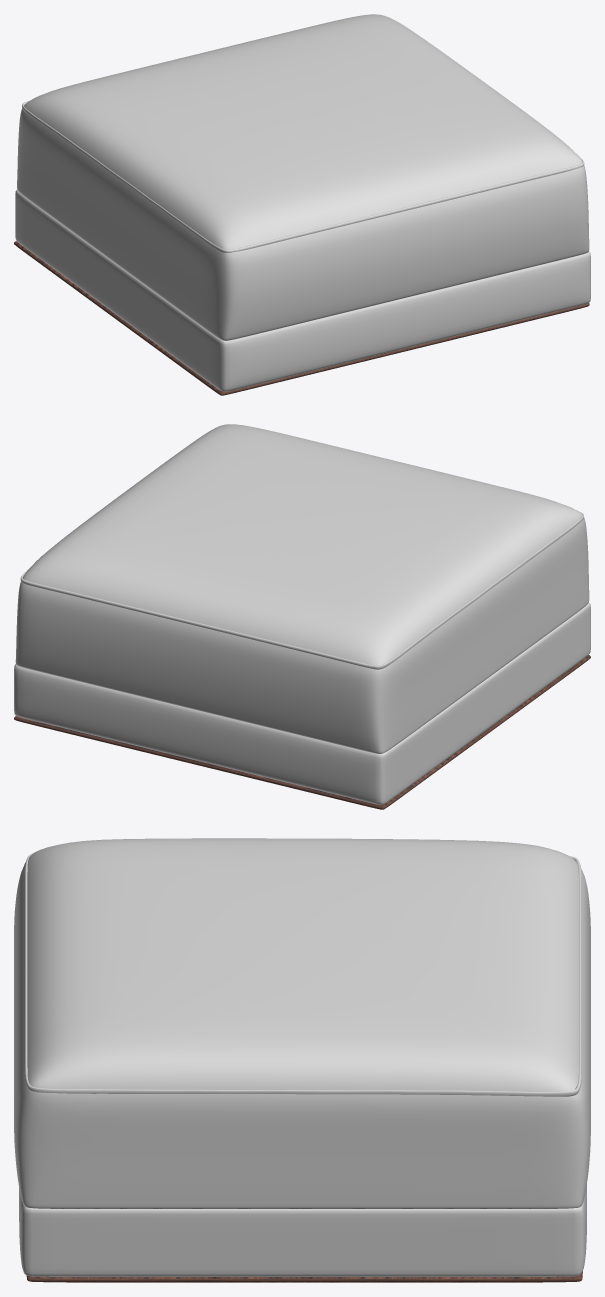
File: ST_HILKER_DORTMUND_Puffee.glb
3 renders of one model, top to bottom at view 1: azimuth 30°, elevation 25°; view 2: azimuth 150°, elevation 25°; view 3: azimuth 270°, elevation 25°, orthographic. The views are drawn at different scales.
Visible parts, largest first — view 1: ST_HILKER_DORTMUND_Puffee; view 2: ST_HILKER_DORTMUND_Puffee; view 3: ST_HILKER_DORTMUND_Puffee.
Boxes of the visible parts, x1=… form: ST_HILKER_DORTMUND_Puffee: x1=14, y1=14, x2=590, y2=395; ST_HILKER_DORTMUND_Puffee: x1=14, y1=424, x2=590, y2=809; ST_HILKER_DORTMUND_Puffee: x1=14, y1=838, x2=590, y2=1282.
Bounding box in the file's own units: 0.9537 × 0.4429 × 0.96.
3 materials, 1 textured.
